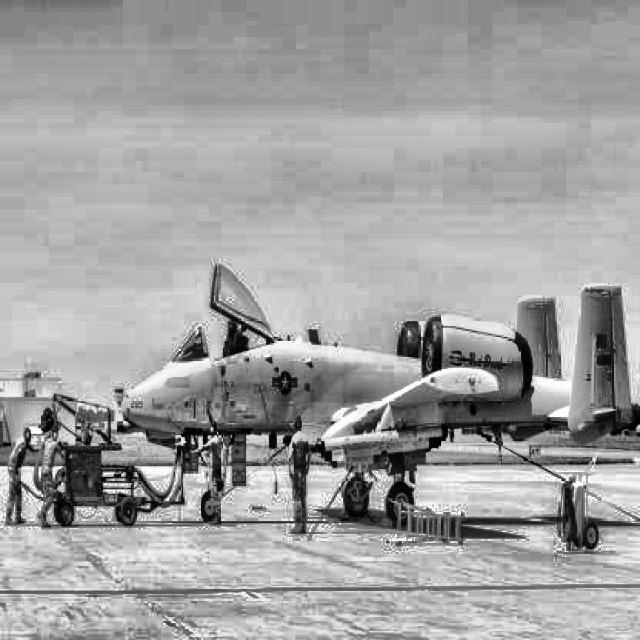A10: (116, 264, 633, 527)
